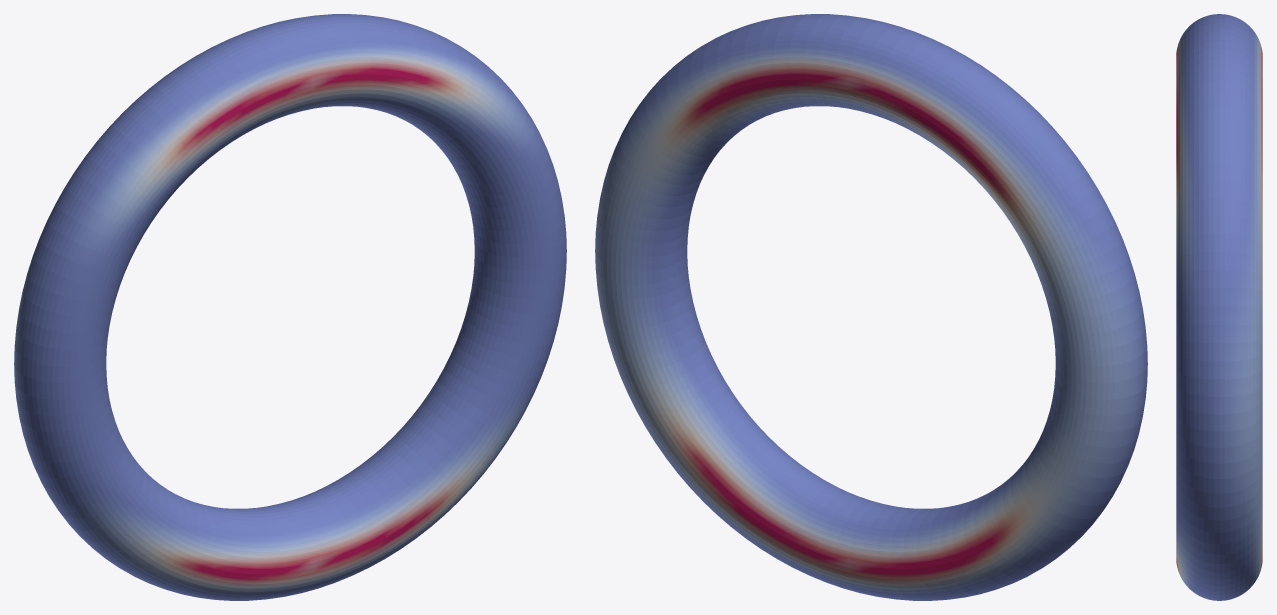
3 views of the same model, side by side, from view 1: azimuth 30°, elevation 25°; view 2: azimuth 150°, elevation 25°; view 3: azimuth 270°, elevation 25° (orthographic). The views are drawn at different scales.
Parts seen in each view (by area): view 1: world; view 2: world; view 3: world.
Boxes of the visible parts, x1=… form: world: x1=14, y1=14, x2=566, y2=600; world: x1=595, y1=14, x2=1147, y2=600; world: x1=1176, y1=14, x2=1262, y2=600.
Size of the model in its own units: 19.56 by 19.56 by 2.88.
